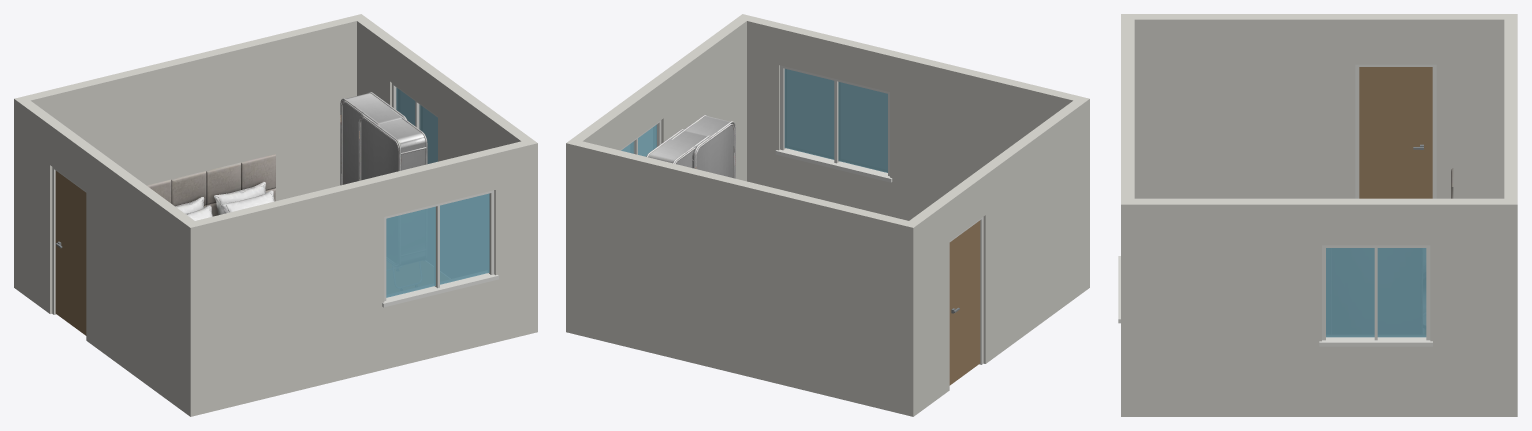
File: diffuscene.glb
3 views of the same model, side by side, from view 1: azimuth 30°, elevation 25°; view 2: azimuth 150°, elevation 25°; view 3: azimuth 270°, elevation 25° (orthographic). The views are drawn at different scales.
Visible parts, largest first — view 1: wall|scenesmith_064__R00|0, wall|scenesmith_064__R00|1, wall|scenesmith_064__R00|2, wall|scenesmith_064__R00|3, wall|scenesmith_064__R00|0 Window 0 | glazing, raw_model, solid_001, wall|scenesmith_064__R00|2 Door 0 | wood leaf, wall|scenesmith_064__R00|0 Window 0 | jamb, wall|scenesmith_064__R00|3 Window 0 | glazing, wall|scenesmith_064__R00|2 Door 0 | jamb; view 2: wall|scenesmith_064__R00|1, wall|scenesmith_064__R00|0, wall|scenesmith_064__R00|2, wall|scenesmith_064__R00|3, wall|scenesmith_064__R00|0 Window 0 | glazing, wall|scenesmith_064__R00|2 Door 0 | wood leaf, raw_model, wall|scenesmith_064__R00|0 Window 0 | jamb, wall|scenesmith_064__R00|2 Door 0 | jamb, wall|scenesmith_064__R00|3 Window 0 | glazing; view 3: wall|scenesmith_064__R00|3, wall|scenesmith_064__R00|2, wall|scenesmith_064__R00|2 Door 0 | wood leaf, wall|scenesmith_064__R00|3 Window 0 | glazing, wall|scenesmith_064__R00|1, wall|scenesmith_064__R00|3 Window 0 | jamb, wall|scenesmith_064__R00|0, wall|scenesmith_064__R00|2 Door 0 | jamb.
Part boxes in pixels (<box>): wall|scenesmith_064__R00|0: <box>195,139,537,414</box>; wall|scenesmith_064__R00|1: <box>14,14,366,291</box>; wall|scenesmith_064__R00|2: <box>14,96,200,416</box>; wall|scenesmith_064__R00|3: <box>353,16,536,161</box>; wall|scenesmith_064__R00|0 Window 0 | glazing: <box>386,193,489,297</box>; raw_model: <box>340,92,427,185</box>; solid_001: <box>147,154,275,220</box>; wall|scenesmith_064__R00|2 Door 0 | wood leaf: <box>55,170,86,335</box>; wall|scenesmith_064__R00|0 Window 0 | jamb: <box>382,190,498,307</box>; wall|scenesmith_064__R00|3 Window 0 | glazing: <box>396,87,437,163</box>; wall|scenesmith_064__R00|2 Door 0 | jamb: <box>52,167,86,314</box>; wall|scenesmith_064__R00|1: <box>566,139,919,416</box>; wall|scenesmith_064__R00|0: <box>737,14,1078,220</box>; wall|scenesmith_064__R00|2: <box>903,96,1089,416</box>; wall|scenesmith_064__R00|3: <box>572,14,752,181</box>; wall|scenesmith_064__R00|0 Window 0 | glazing: <box>784,68,887,172</box>; wall|scenesmith_064__R00|2 Door 0 | wood leaf: <box>949,220,980,385</box>; raw_model: <box>646,115,735,178</box>; wall|scenesmith_064__R00|0 Window 0 | jamb: <box>775,65,892,182</box>; wall|scenesmith_064__R00|2 Door 0 | jamb: <box>949,217,983,364</box>; wall|scenesmith_064__R00|3 Window 0 | glazing: <box>621,124,656,156</box>; wall|scenesmith_064__R00|3: <box>1121,198,1517,416</box>; wall|scenesmith_064__R00|2: <box>1121,14,1517,198</box>; wall|scenesmith_064__R00|2 Door 0 | wood leaf: <box>1359,67,1432,198</box>; wall|scenesmith_064__R00|3 Window 0 | glazing: <box>1326,248,1426,337</box>; wall|scenesmith_064__R00|1: <box>1504,19,1517,416</box>; wall|scenesmith_064__R00|3 Window 0 | jamb: <box>1319,245,1432,346</box>; wall|scenesmith_064__R00|0: <box>1121,19,1134,204</box>; wall|scenesmith_064__R00|2 Door 0 | jamb: <box>1355,64,1436,198</box>.
Size of the model in its own units: 5.03 by 2.61 by 4.43.
9 materials, 3 textured.
